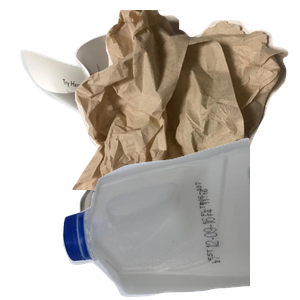glass: (77, 178, 205, 300)
paper: (18, 30, 213, 210)
plastic: (60, 135, 300, 300)
trash: (70, 10, 300, 190)
